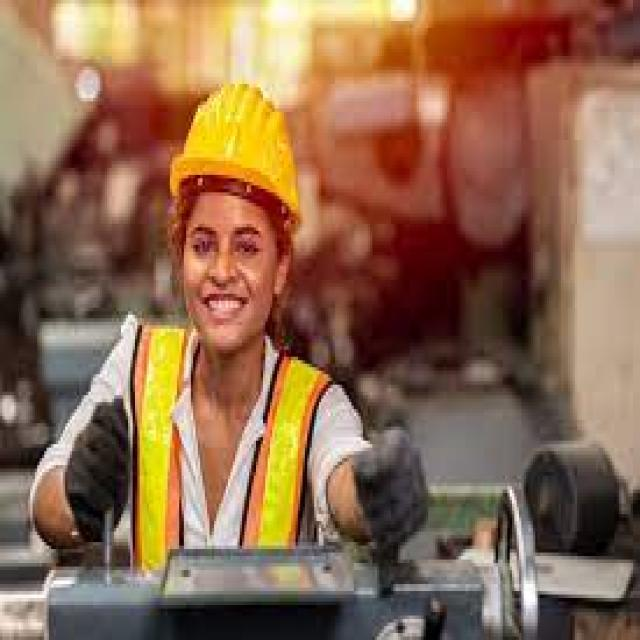Reflective-Jacket: (109, 315, 347, 598)
Safety-Helmet: (163, 74, 314, 235)
